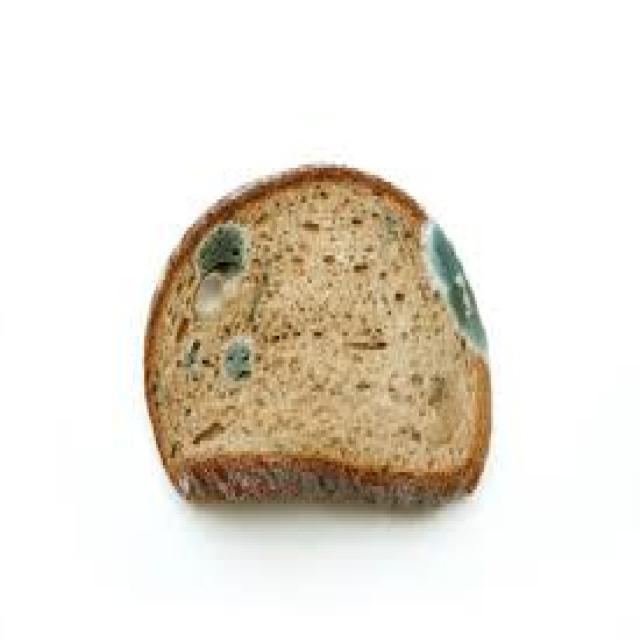Wet Waste: (131, 109, 539, 537)
